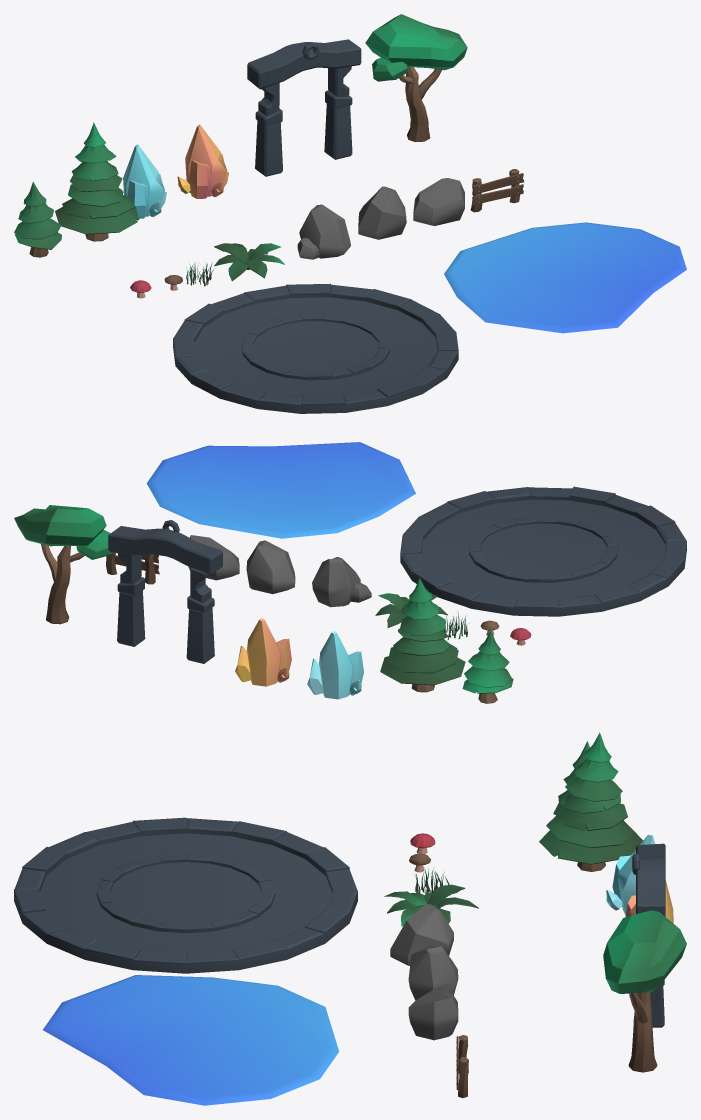
The picture shows the model from 3 angles, top to bottom: view 1: azimuth 30°, elevation 25°; view 2: azimuth 150°, elevation 25°; view 3: azimuth 270°, elevation 25°; orthographic projection. The views are drawn at different scales.
Visible parts, largest first — view 1: CircularPlatform, Pond, Archway, Tree_3, Tree_2, Crystal_2, Rock_3, Tree_1, Crystal_1, Rock_1, Rock_2, Bush (+1 smaller); view 2: CircularPlatform, Pond, Archway, Tree_2, Tree_3, Crystal_1, Crystal_2, Tree_1, Rock_3, Rock_2, Rock_1, Fence (+1 smaller); view 3: CircularPlatform, Pond, Tree_2, Tree_3, Archway, Rock_3, Rock_1, Rock_2, Bush, Crystal_1, Fence.
Part boxes in pixels (box(x1,y1,x2,y2)): CircularPlatform: box(173, 283, 458, 413); Pond: box(444, 222, 686, 333); Archway: box(247, 39, 361, 176); Tree_3: box(365, 14, 467, 141); Tree_2: box(55, 122, 139, 241); Crystal_2: box(177, 124, 228, 198); Rock_3: box(297, 204, 350, 259); Tree_1: box(14, 181, 61, 257); Crystal_1: box(123, 144, 166, 218); Rock_1: box(413, 178, 464, 225); Rock_2: box(358, 186, 406, 239); Bush: box(214, 243, 284, 281); CircularPlatform: box(400, 486, 686, 616); Pond: box(146, 442, 415, 538); Archway: box(108, 520, 222, 663); Tree_2: box(380, 578, 465, 692); Tree_3: box(14, 505, 113, 624); Crystal_1: box(307, 631, 363, 699); Crystal_2: box(235, 618, 291, 686); Tree_1: box(462, 630, 513, 703); Rock_3: box(312, 557, 371, 607); Rock_2: box(246, 540, 295, 594); Rock_1: box(188, 535, 239, 580); Fence: box(106, 552, 159, 584); CircularPlatform: box(14, 817, 357, 973); Pond: box(43, 975, 339, 1105); Tree_2: box(539, 732, 643, 871); Tree_3: box(603, 910, 686, 1072); Archway: box(632, 843, 665, 1027); Rock_3: box(390, 904, 453, 965); Rock_1: box(408, 989, 458, 1040); Rock_2: box(408, 945, 458, 1000); Bush: box(384, 884, 478, 926); Crystal_1: box(606, 834, 654, 915); Fence: box(456, 1035, 468, 1097).
Size of the model in its own units: 0.1605 by 0.042 by 0.1547.
2 materials, 2 textured.
